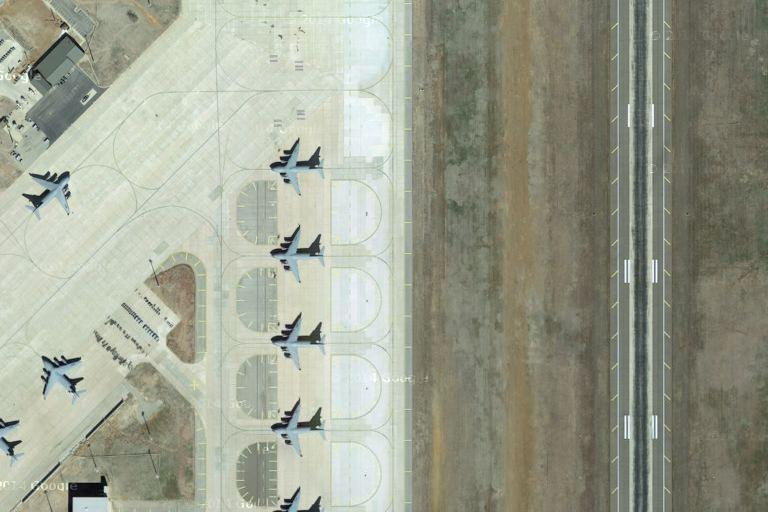C-17: (264, 227, 332, 286), (264, 314, 330, 369), (267, 401, 332, 454), (269, 139, 327, 195), (20, 170, 79, 219), (37, 352, 90, 406)
